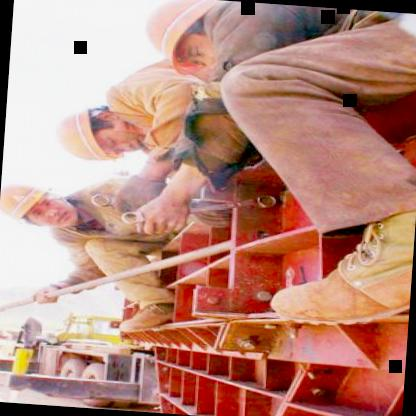helmet: (140, 0, 252, 80), (46, 101, 156, 169), (0, 179, 90, 241)
